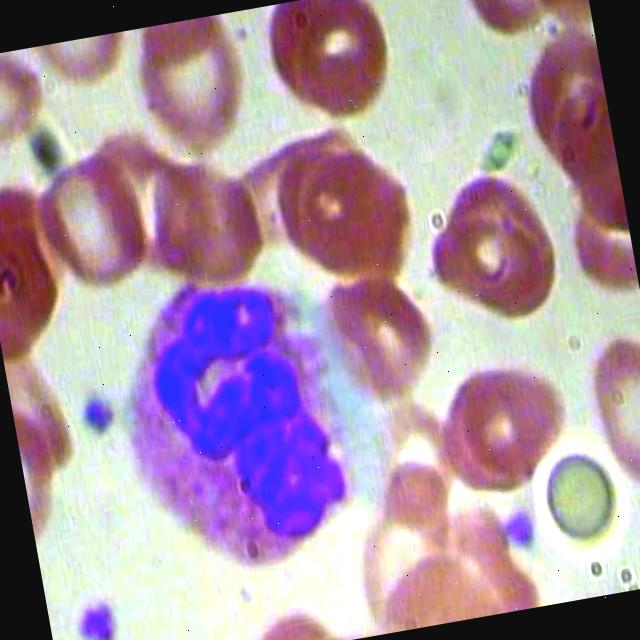Platelets: (76, 385, 125, 446), (70, 589, 119, 640), (498, 503, 538, 554)
WBC: (97, 244, 386, 588)
